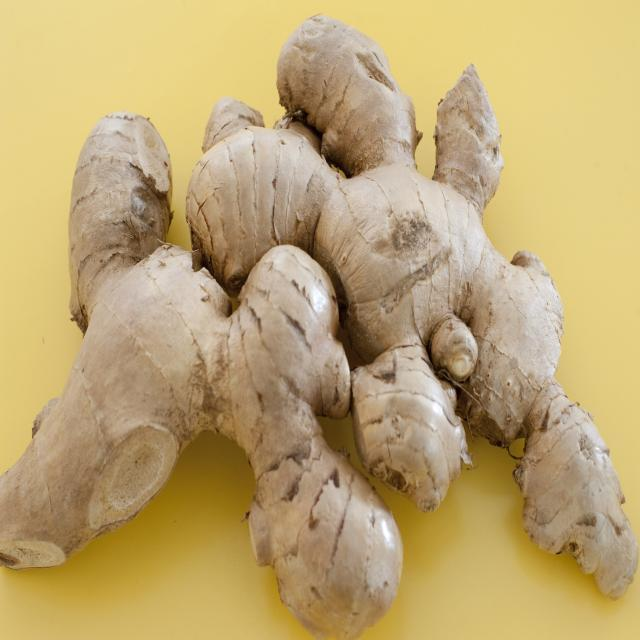ginger: (0, 15, 636, 636)
